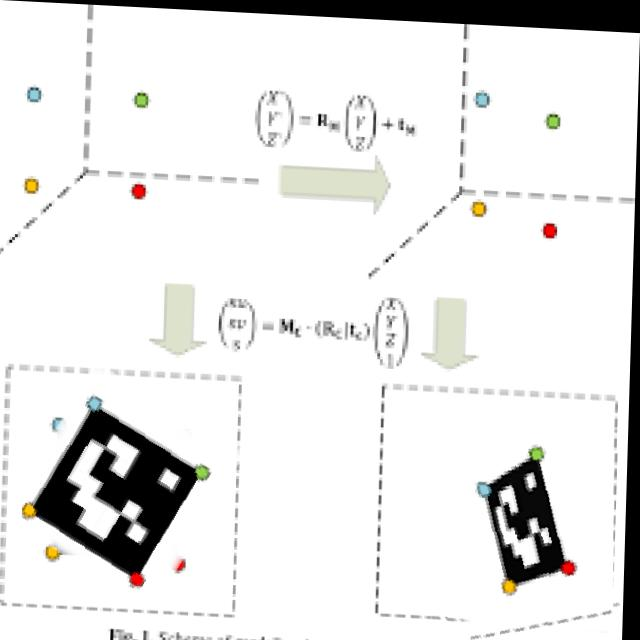aruco: (23, 372, 234, 592), (429, 409, 621, 640)
